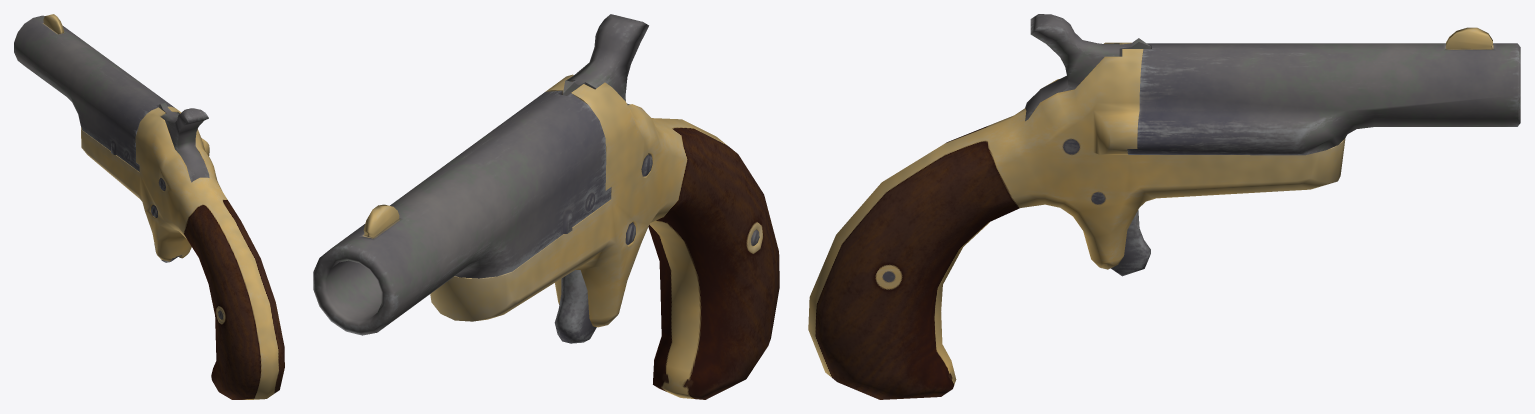
The model's file is derringer-pistol__derringer__derringer.glb.
3 renders of one model, left to right at view 1: azimuth 30°, elevation 25°; view 2: azimuth 150°, elevation 25°; view 3: azimuth 270°, elevation 25°, orthographic. The views are drawn at different scales.
Visible parts, largest first — view 1: Derringer; view 2: Derringer; view 3: Derringer.
Part boxes in pixels (box(x1,y1,x2,y2)): Derringer: box(14, 14, 284, 399); Derringer: box(313, 14, 779, 399); Derringer: box(808, 14, 1520, 399).
Bounding box in the file's own units: 0.0189 × 0.07 × 0.1211.
1 material, 1 textured.
